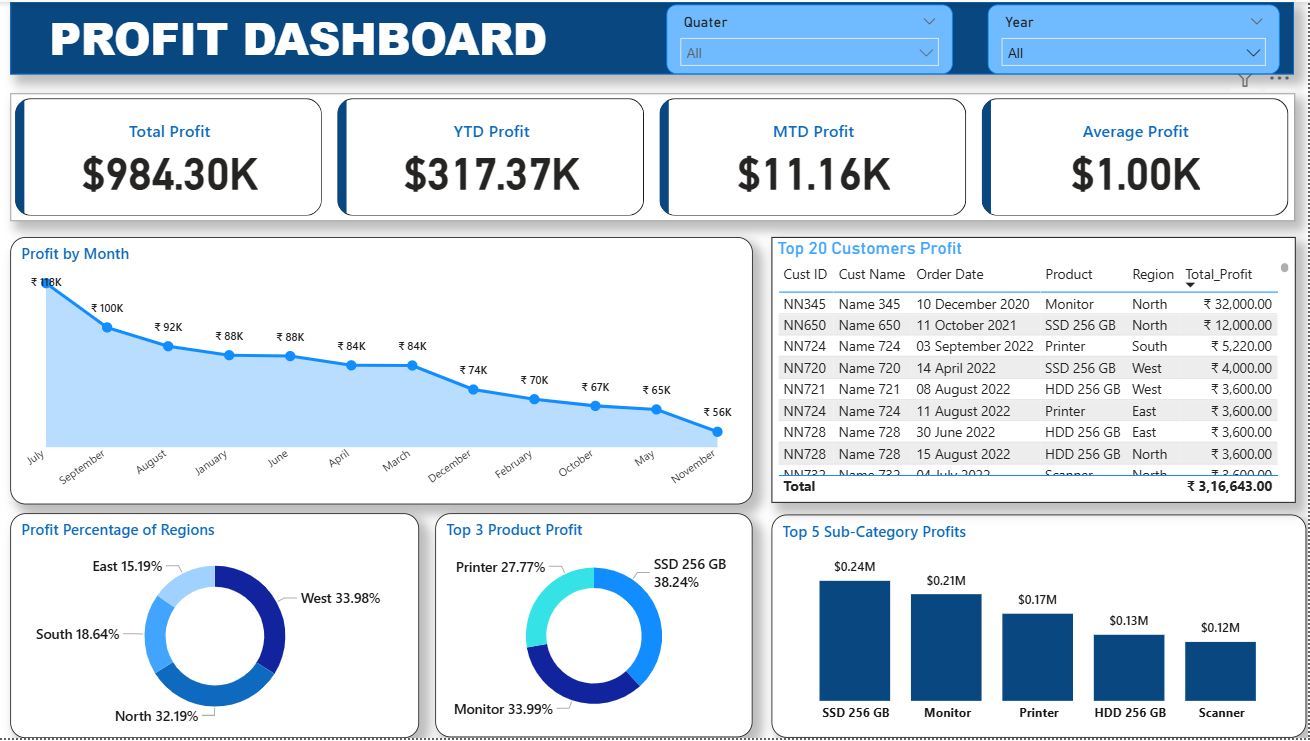

The page's visual inventory and layout, read from the dashboard file:
{"tool":"powerbi","page":{"name":"Page 2","canvas":[1280,720],"ordinal":2},"visuals":[{"type":"cardVisual","fields":{"Data":["Sheet1.Total_Profit","Sheet1.ytd_profit","Sheet1.mtd_profit","Sheet1.AVG_PROFIT"]},"box":[11.5,89.5,1256,125],"z":0},{"type":"shape","box":[11,0,1255.8,70.9],"z":1000},{"type":"textbox","box":[30.3,0,538.2,70.7],"z":2000},{"type":"areaChart","title":"Profit by Month","fields":{"Y":["Sheet1.Total_Profit"],"Category":["Calendar_date.Month Hierarchy.Month"]},"box":[11.6,229.7,726.5,261.4],"z":3000},{"type":"donutChart","title":"Profit Percentage of Regions","fields":{"Category":["Sheet1.Region"],"Y":["Sheet1.Total_Profit"]},"box":[11.5,500,400,220],"z":4000},{"type":"pieChart","title":"Top 3 Product Profit","fields":{"Y":["Sheet1.Total_Profit"],"Category":["Sheet1.Product"]},"box":[427.1,500.6,310.2,219.3],"z":5000},{"type":"columnChart","title":"Top 5 Sub-Category Profits","fields":{"Y":["Sheet1.Total_Profit"],"Category":["Sheet1.Product"]},"box":[755.4,501.2,522.9,218.1],"z":6000},{"type":"tableEx","title":"Top 20 Customers Profiit","fields":{"Values":["Sheet1.Cust ID","Sheet1.Cust Name","Sheet1.Order Date","Sheet1.Product","Sheet1.Region","Sheet1.Total_Profit"]},"box":[755.4,229.7,512.8,260],"z":7000},{"type":"slicer","fields":{"Values":["Calendar_date.Year"]},"box":[967.7,2.9,286,67.9],"z":8000},{"type":"slicer","fields":{"Values":["Calendar_date.Quater"]},"box":[652.9,2.9,280.2,67.9],"z":9000}]}

Visuals, with their boxes in screenshot pixels (x1, y1, x2, y2), scaled from the page's 1280x720 canvas onto the 1310x741 screenshot:
cardVisual - Sheet1.Total_Profit x Sheet1.ytd_profit: pyautogui.locateOnScreen(12, 92, 1297, 221)
shape: pyautogui.locateOnScreen(11, 0, 1296, 73)
textbox: pyautogui.locateOnScreen(31, 0, 582, 73)
"Profit by Month" areaChart: pyautogui.locateOnScreen(12, 236, 755, 505)
"Profit Percentage of Regions" donutChart: pyautogui.locateOnScreen(12, 515, 421, 740)
"Top 3 Product Profit" pieChart: pyautogui.locateOnScreen(437, 515, 755, 740)
"Top 5 Sub-Category Profits" columnChart: pyautogui.locateOnScreen(773, 516, 1308, 740)
"Top 20 Customers Profiit" tableEx: pyautogui.locateOnScreen(773, 236, 1298, 504)
slicer - Calendar_date.Year: pyautogui.locateOnScreen(990, 3, 1283, 73)
slicer - Calendar_date.Quater: pyautogui.locateOnScreen(668, 3, 955, 73)
